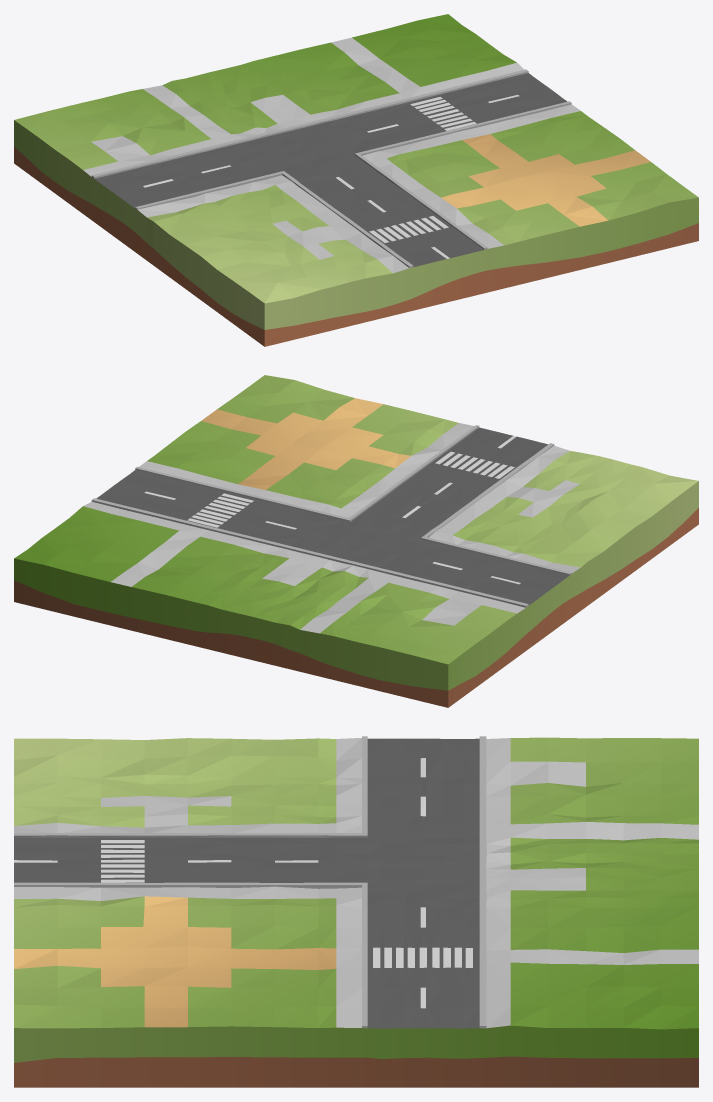
File: land downtown.fbx
The picture shows the model from 3 angles, top to bottom: view 1: azimuth 30°, elevation 25°; view 2: azimuth 150°, elevation 25°; view 3: azimuth 270°, elevation 25°; orthographic projection. The views are drawn at different scales.
Visible parts, largest first — view 1: land downtown; view 2: land downtown; view 3: land downtown.
Boxes of the visible parts, box(x1,y1,x2,y2) form: land downtown: box(14, 14, 698, 346); land downtown: box(14, 375, 698, 707); land downtown: box(14, 736, 698, 1087).
Bounding box in the file's own units: 4500 × 454 × 4500.
